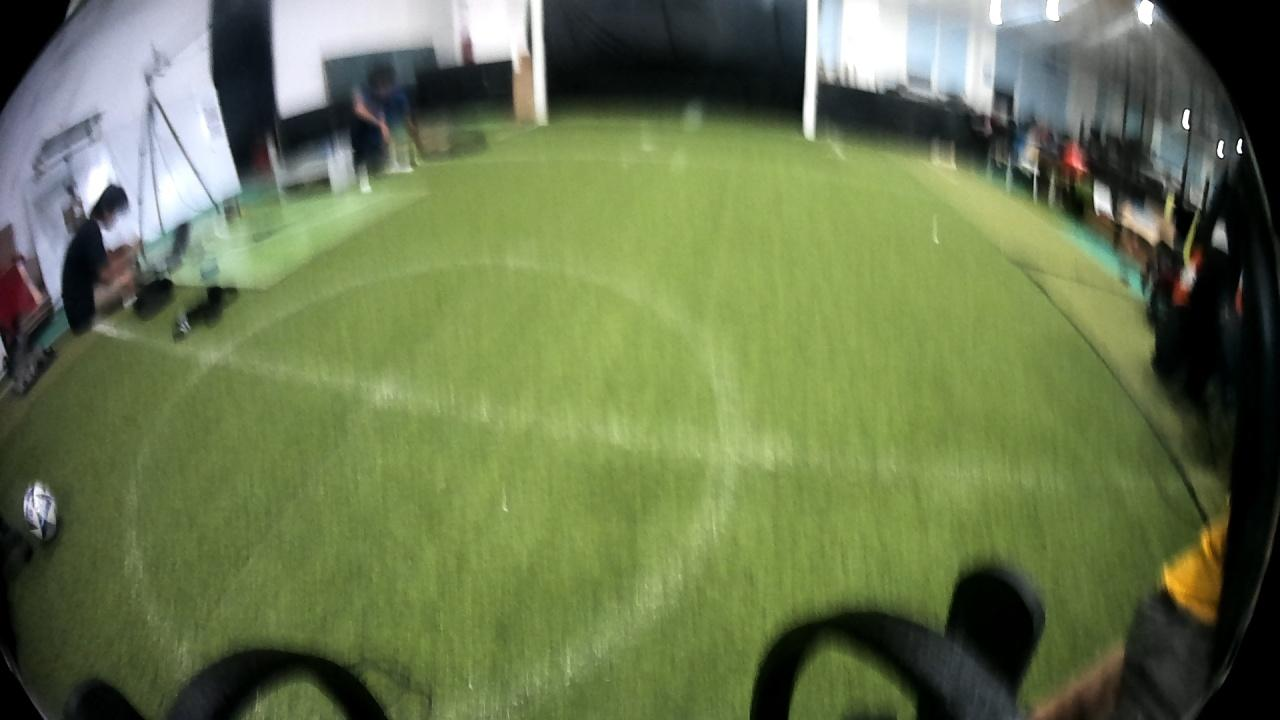ball: (18, 477, 62, 553)
